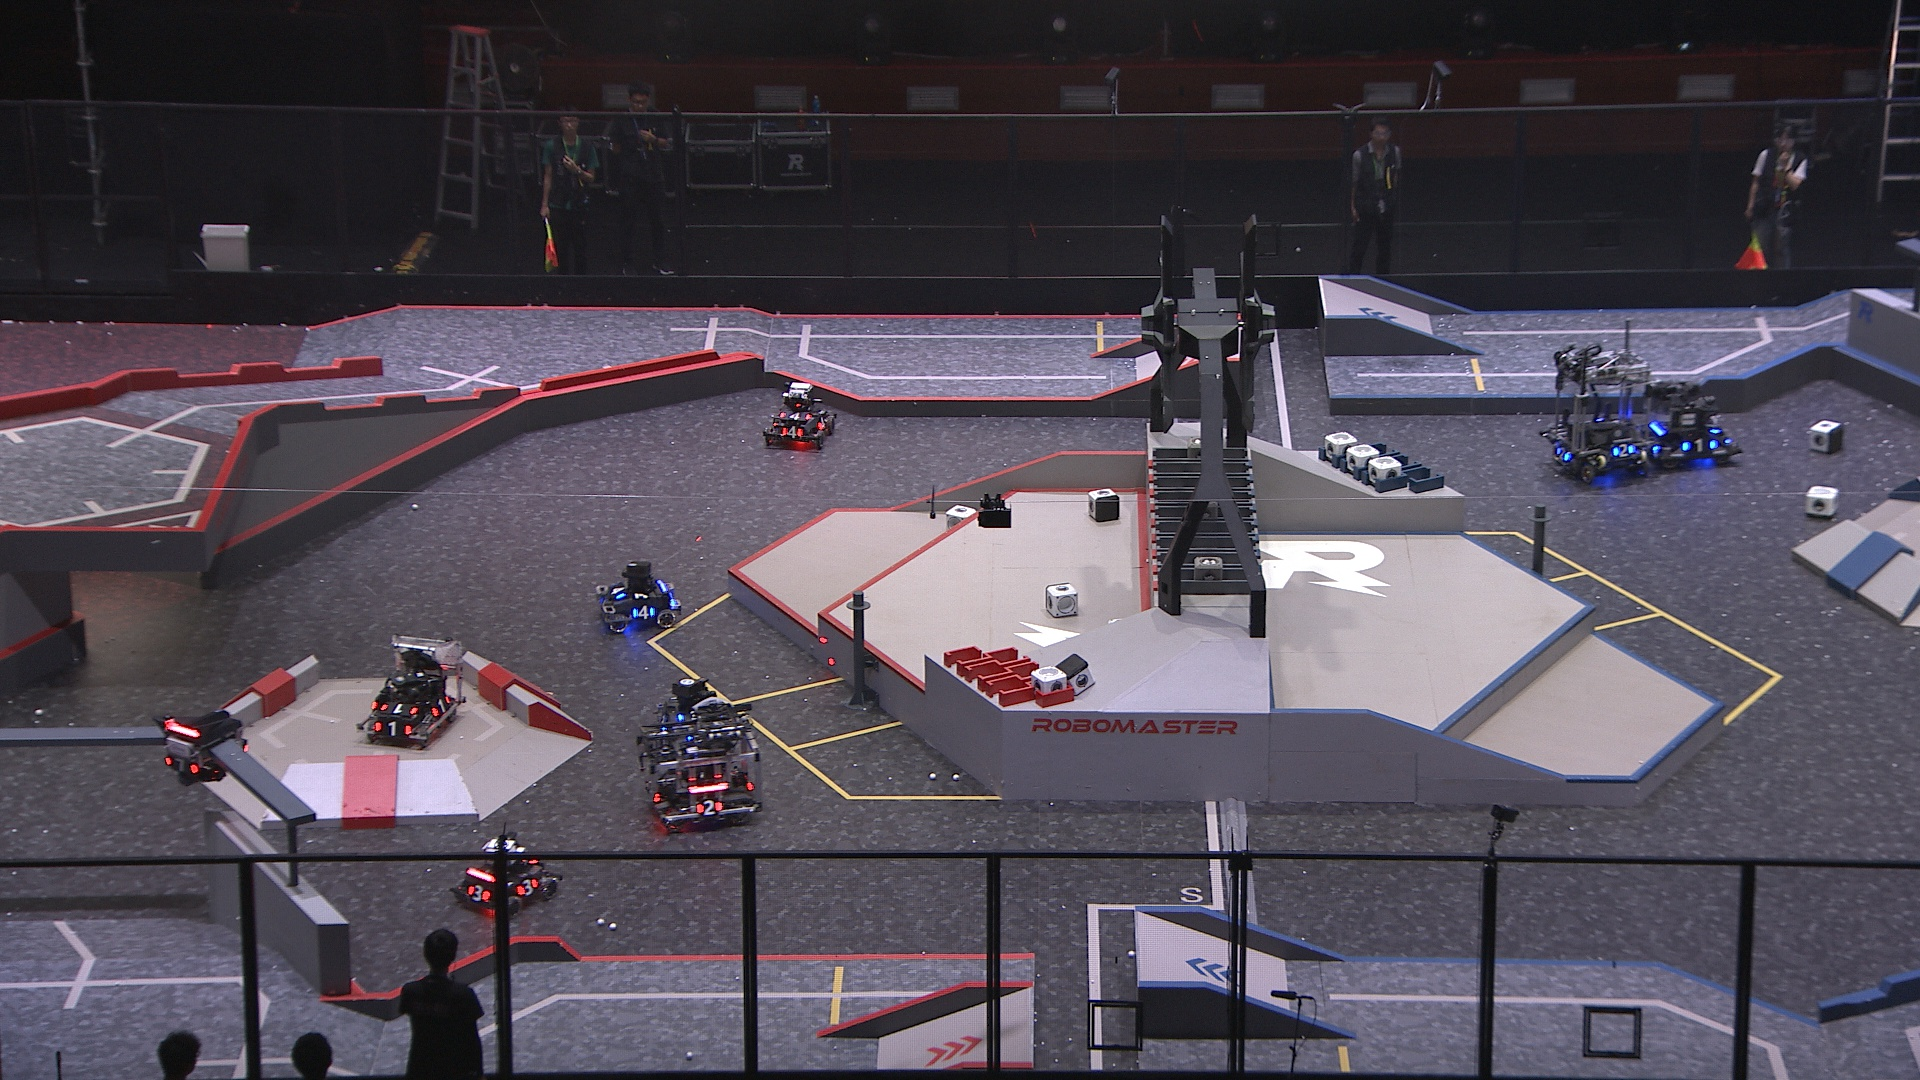armor: (373, 717, 415, 738), (164, 756, 200, 777), (1680, 436, 1718, 455), (378, 700, 419, 716), (463, 884, 491, 906), (514, 876, 539, 898), (694, 798, 724, 816), (629, 604, 657, 622), (429, 695, 451, 717), (1610, 442, 1636, 458), (779, 410, 811, 422), (1553, 446, 1572, 465), (779, 425, 804, 439), (612, 584, 626, 603), (814, 415, 828, 433)
car: (1538, 343, 1662, 487), (636, 705, 764, 833), (351, 638, 468, 754), (1640, 376, 1746, 473), (446, 831, 564, 916), (654, 676, 744, 750), (593, 560, 684, 632), (761, 381, 836, 450)
watcher: (158, 708, 245, 787)
